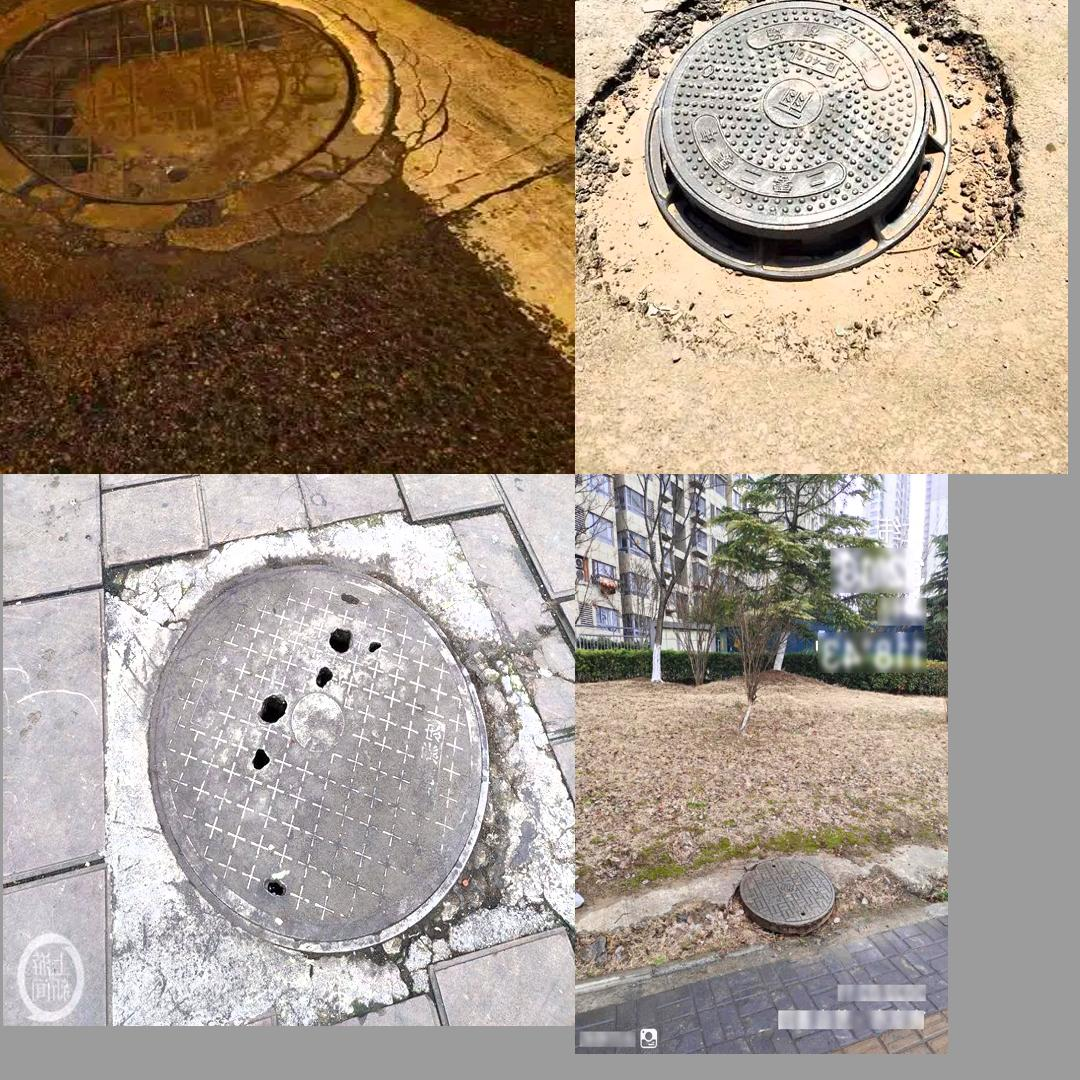circle: (89, 506, 561, 1013), (0, 0, 517, 324), (582, 0, 1017, 361), (734, 855, 837, 933)
